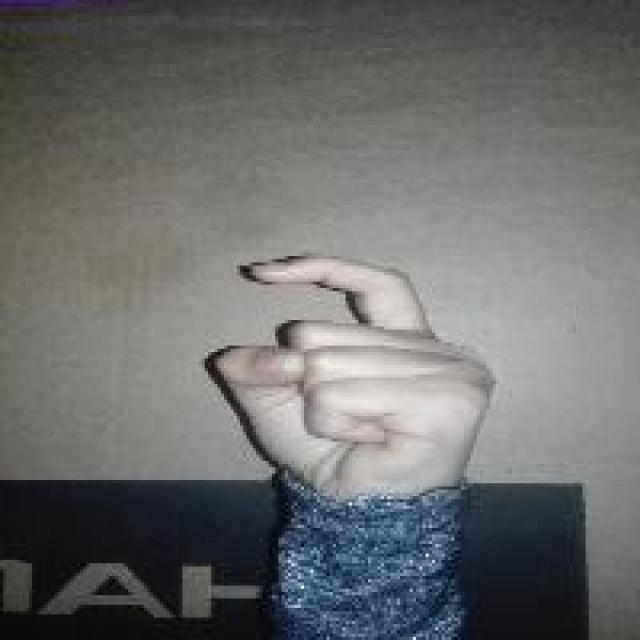X: (211, 246, 499, 493)
